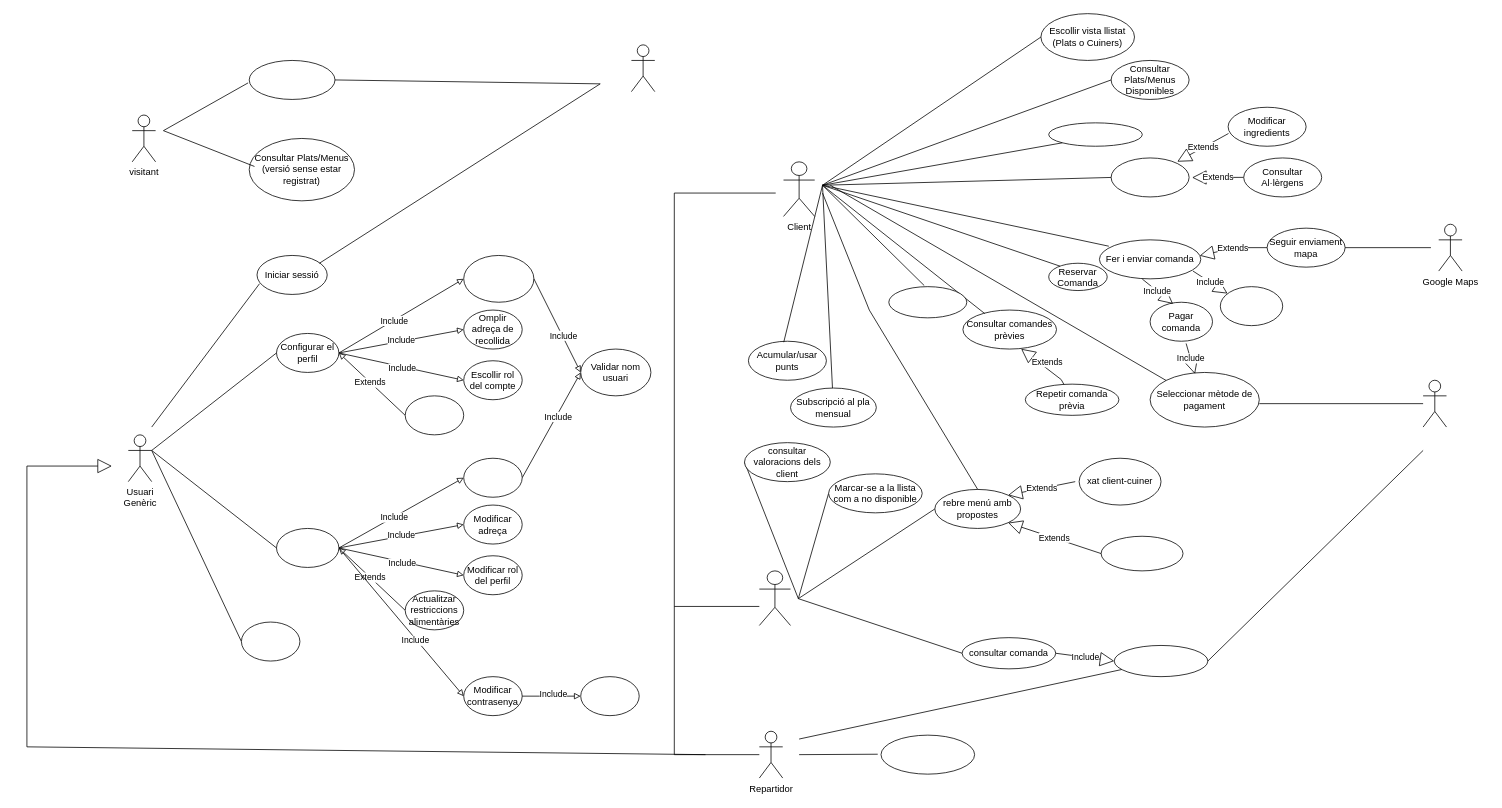
Some shapes in this 1502 by 808 pixel diagram are drawn without their labels. Each missing label, with the centre of its shape:
acceptar proposta: point (1141, 553)
Actualitzar el perfil: point (307, 547)
Afegir restricció alimentària: point (434, 415)
Cercar Cuiner/Plat: point (1095, 134)
Confirmar recollida/entrega: point (927, 754)
Cuiner: point (775, 597)
Eliminar perfil: point (270, 641)
Escollir tipus enviament: point (1251, 306)
Gmail/Outlook: point (643, 68)
Modificar nom d'usuari: point (492, 477)
Omplir nom d'usuari: point (498, 278)
rebre ingrés: point (1160, 661)
Registrar-se al sistema: point (291, 79)
Seleccionar plat: point (1149, 177)
Targeta Bancària / PayPal: point (1434, 403)
Validar contrasenya: point (609, 696)
Valorar comanda rebuda: point (927, 302)
